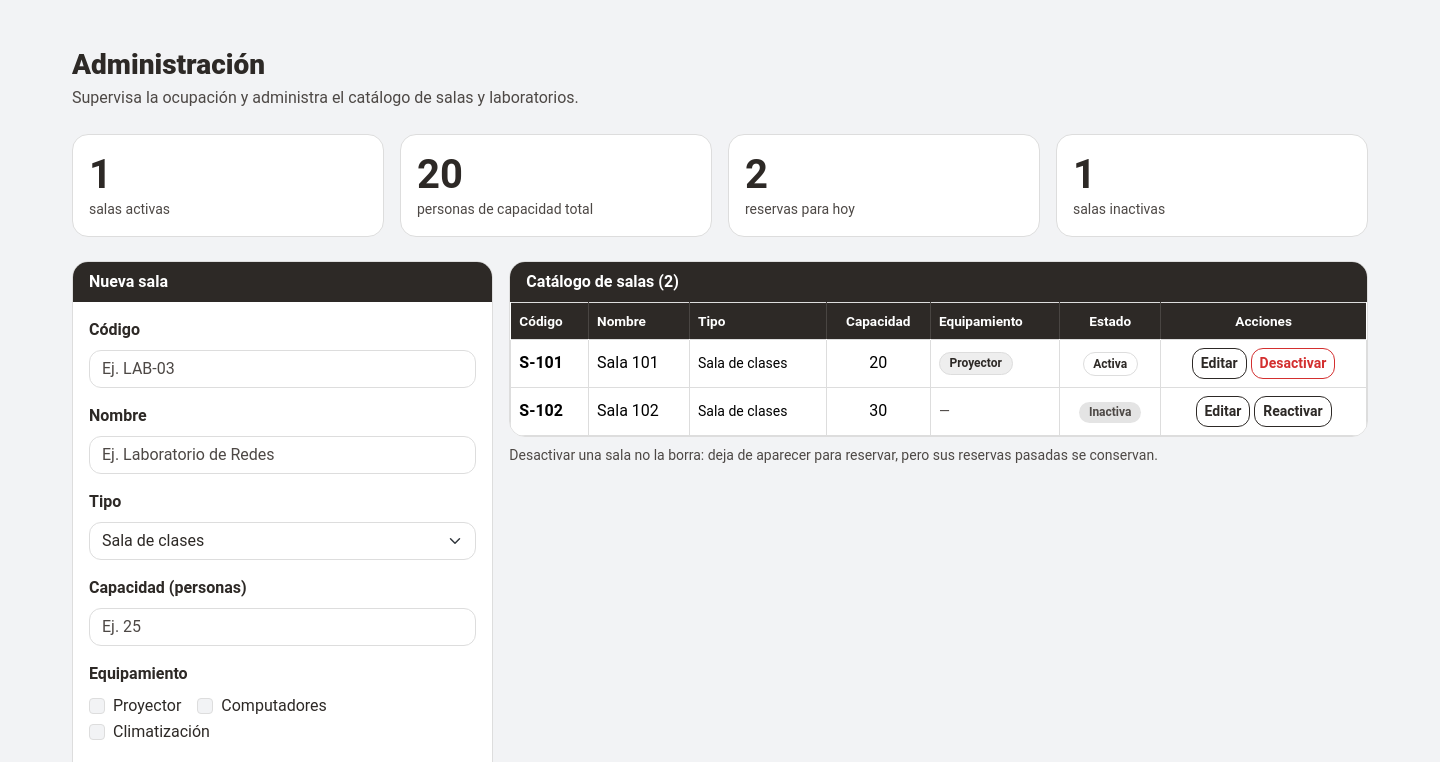
Scenario: Página Administración › una sala inactiva se puede reactivar
The width and height of the screenshot is (1440, 762).
Expected: the text "Sala 102" is shown, left=588, top=388, right=690, bottom=436
Expected: the text "Inactiva" is shown, left=1079, top=402, right=1141, bottom=423
Click the button with aria-label "Reactivar Sala 102".
click(1293, 412)  # box left=1254, top=396, right=1332, bottom=427
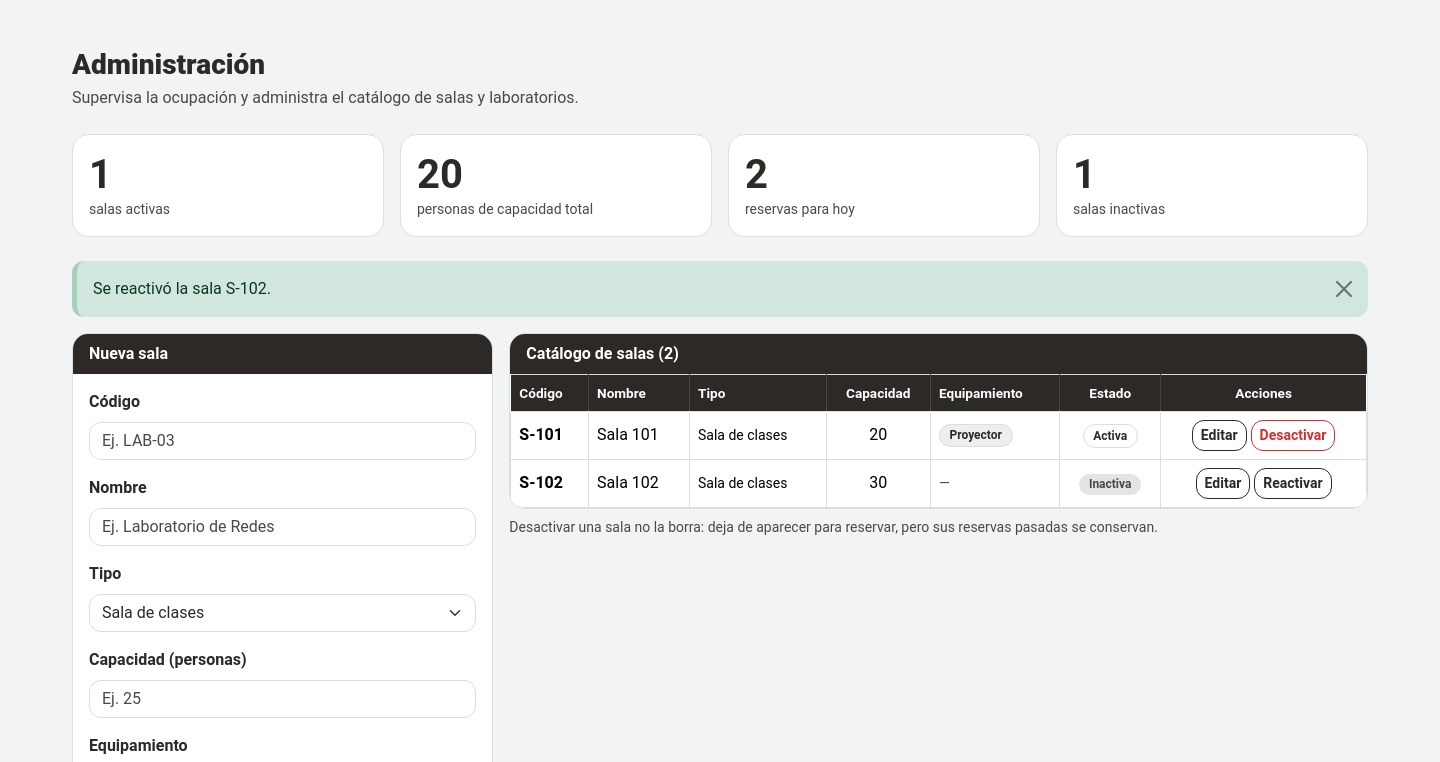
Expected: the text "Se reactivó la sala S-102." is shown, left=72, top=261, right=1368, bottom=317
